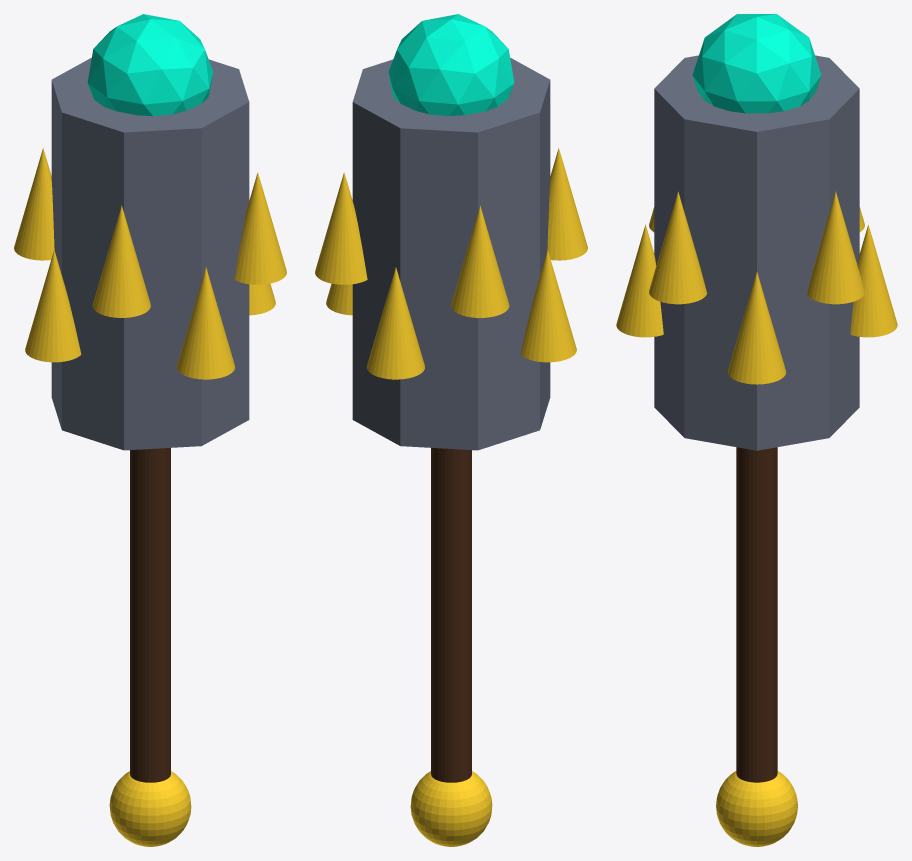
File: megabonk_club.obj
The picture shows the model from 3 angles, left to right: view 1: azimuth 30°, elevation 25°; view 2: azimuth 150°, elevation 25°; view 3: azimuth 270°, elevation 25°; orthographic projection.
Parts seen in each view (by area): view 1: Cylinder.001, Cylinder, Icosphere, Sphere, Cone.004, Cone.005, Cone.006, Cone.003, Cone.007, Cone.002; view 2: Cylinder.001, Cylinder, Icosphere, Sphere, Cone, Cone.007, Cone.006, Cone.001, Cone.005, Cone.002; view 3: Cylinder.001, Cylinder, Icosphere, Sphere, Cone.002, Cone.001, Cone.003, Cone, Cone.004.
Boxes of the visible parts, x1,y1,x2,y2 form: Cylinder.001: (51, 57, 249, 450); Cylinder: (130, 448, 170, 782); Icosphere: (87, 14, 213, 115); Sphere: (109, 771, 191, 846); Cone.004: (177, 267, 235, 379); Cone.005: (92, 205, 150, 317); Cone.006: (25, 250, 81, 362); Cone.003: (234, 172, 286, 284); Cone.007: (14, 148, 54, 260); Cone.002: (249, 283, 275, 315); Cylinder.001: (352, 57, 550, 450); Cylinder: (431, 448, 471, 782); Icosphere: (388, 14, 514, 115); Sphere: (410, 771, 492, 846); Cone: (366, 267, 424, 379); Cone.007: (451, 205, 509, 317); Cone.006: (520, 250, 576, 362); Cone.001: (315, 172, 367, 284); Cone.005: (547, 148, 587, 260); Cone.002: (326, 283, 352, 315); Cylinder.001: (654, 55, 859, 450); Cylinder: (736, 447, 777, 782); Icosphere: (692, 14, 821, 113); Sphere: (716, 771, 797, 846); Cone.002: (727, 272, 786, 384); Cone.001: (806, 191, 864, 304); Cone.003: (649, 191, 707, 304); Cone: (850, 224, 897, 337); Cone.004: (616, 224, 663, 337).
Size of the model in its own units: 0.96 by 3.11 by 0.96.
